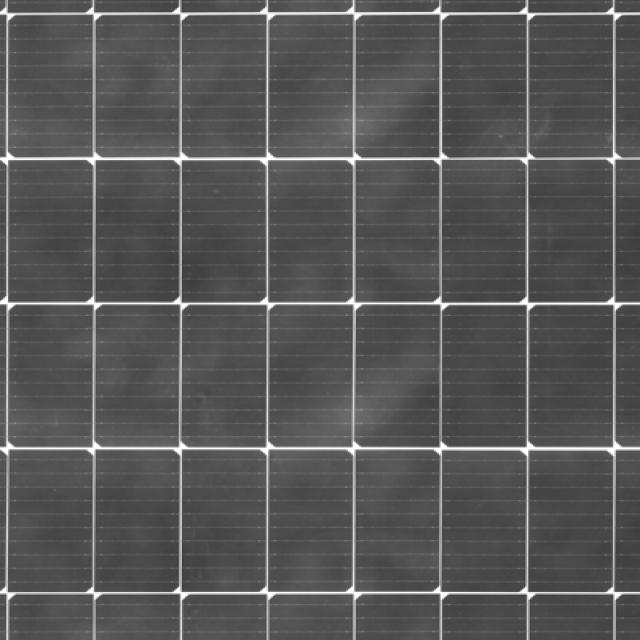CORRECT: (5, 1, 640, 640), (81, 89, 624, 611)
